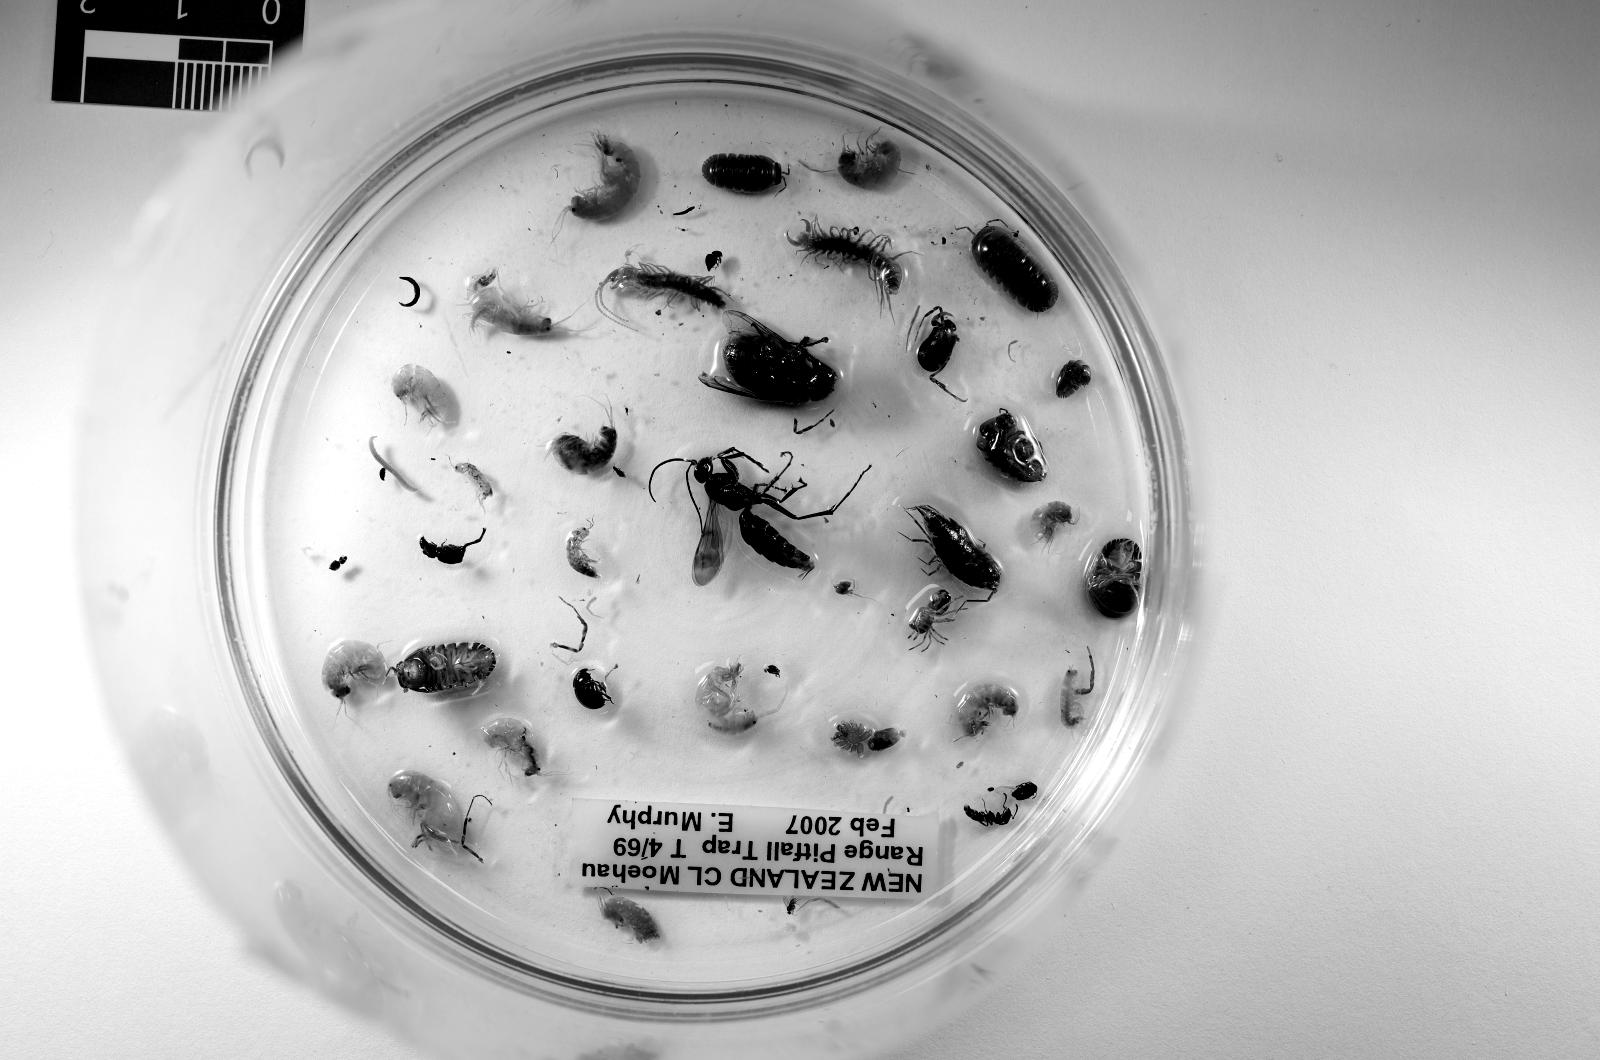amphipoda: (388, 770, 475, 854), (566, 134, 641, 220), (697, 665, 775, 736), (469, 270, 553, 335), (322, 640, 388, 699), (391, 363, 447, 425), (838, 134, 900, 189), (481, 720, 541, 776), (956, 683, 1019, 736), (550, 425, 616, 475), (1031, 500, 1078, 547), (1059, 668, 1088, 727)
araneae: (909, 584, 962, 649), (831, 720, 903, 758)
chilopoda: (788, 220, 903, 307), (594, 264, 728, 326)
coleoptera: (572, 668, 609, 711), (419, 537, 466, 565), (1009, 783, 1038, 801), (706, 252, 722, 270), (328, 556, 347, 571), (612, 466, 625, 478), (378, 466, 388, 481)
collembola: (453, 463, 491, 506)
diplopoda: (369, 438, 419, 491)
diptera: (700, 311, 838, 404), (784, 897, 797, 916)
formicidae: (962, 807, 1012, 826)
hymenoptera: (659, 447, 872, 587)
isopoda: (972, 220, 1059, 314), (912, 506, 1000, 593), (394, 643, 497, 693), (1084, 537, 1141, 618), (703, 152, 784, 196), (566, 528, 597, 578), (1056, 360, 1091, 398)
opiliones: (916, 307, 959, 391)
